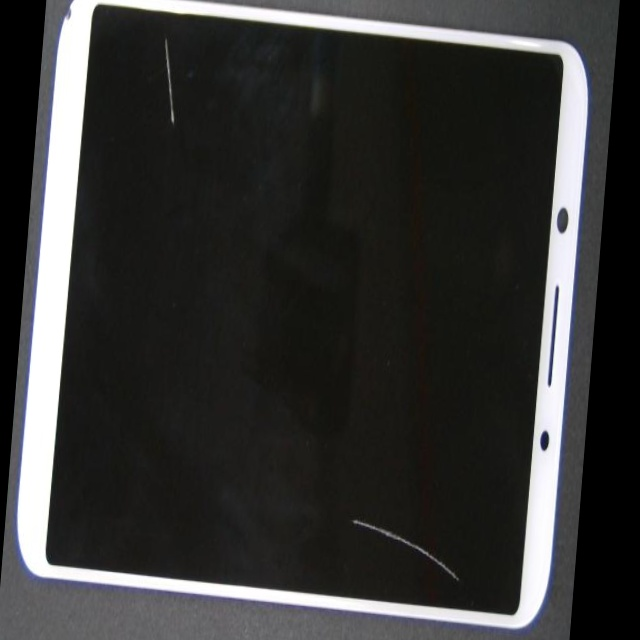scratch: (296, 288, 596, 640), (125, 7, 247, 116)
